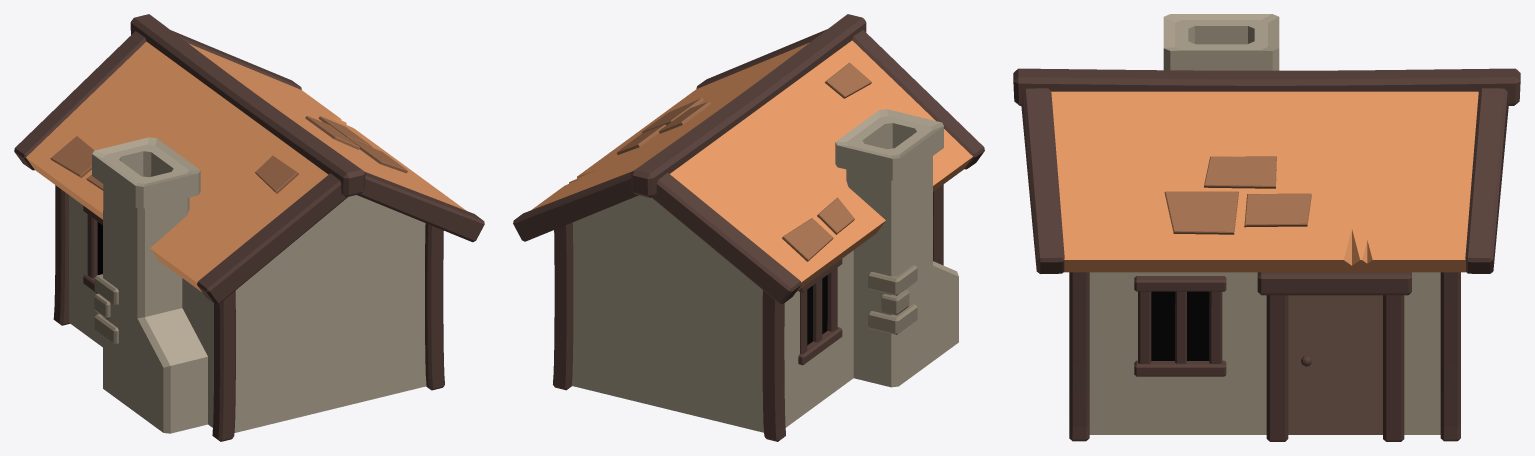
Rendered from House 4.fbx.
The picture shows the model from 3 angles, left to right: view 1: azimuth 30°, elevation 25°; view 2: azimuth 150°, elevation 25°; view 3: azimuth 270°, elevation 25°; orthographic projection. The views are drawn at different scales.
Parts seen in each view (by area): view 1: House 2; view 2: House 2; view 3: House 2.
Part boxes in pixels (left/top/right/bottom): House 2: left=14, top=14, right=484, bottom=441; House 2: left=513, top=14, right=984, bottom=441; House 2: left=1013, top=14, right=1520, bottom=441.
Size of the model in its own units: 372 by 315 by 476.
